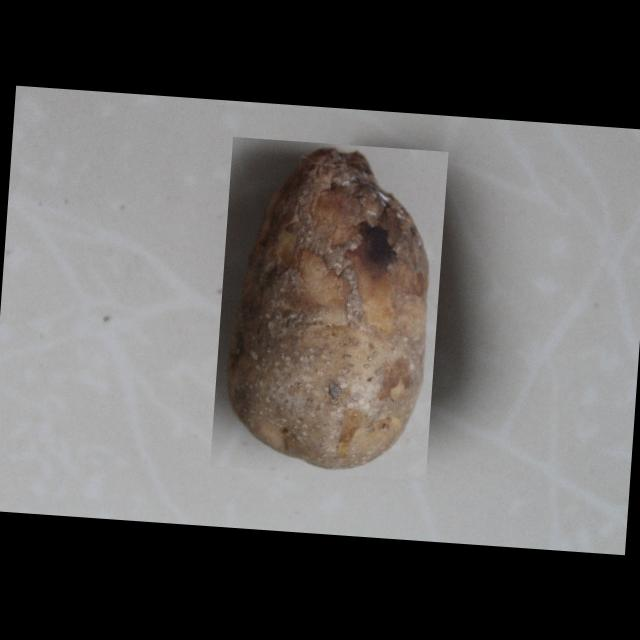Diseased-fungal potato: (210, 137, 448, 480)
